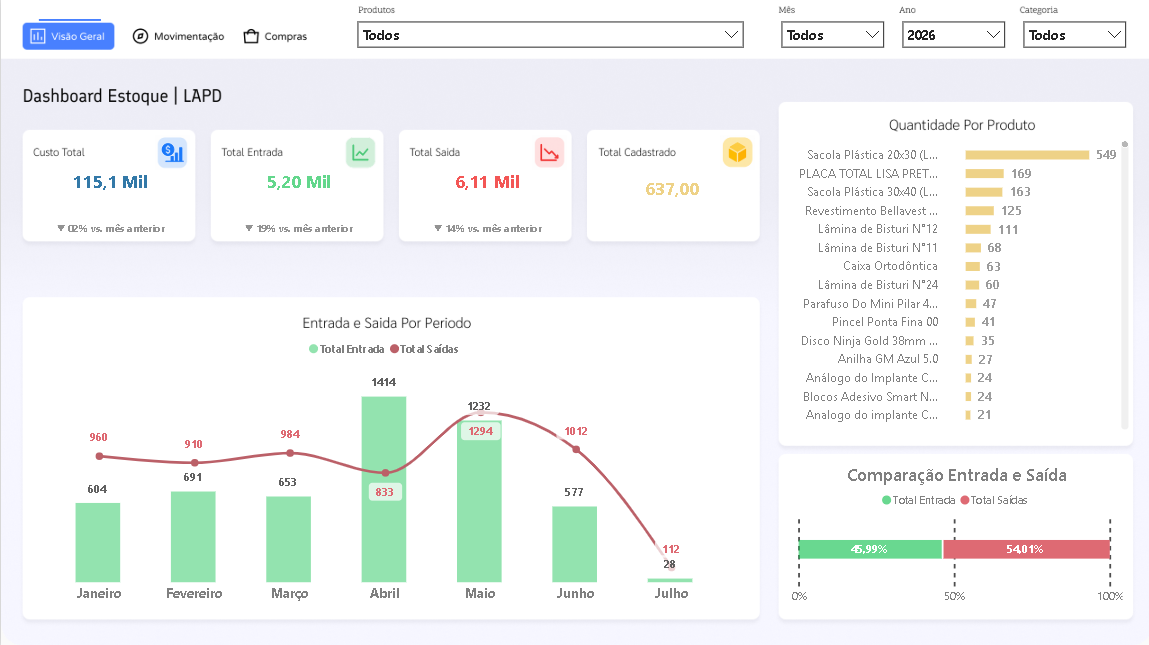

The page's visual inventory and layout, read from the dashboard file:
{"tool":"powerbi","page":{"name":"Visão Geral","canvas":[1280,720],"ordinal":0},"visuals":[{"type":"cardVisual","fields":{"Data":["Medidas.Produtos Cadastrados"]},"box":[650.8,150.6,189.6,116.8],"z":0},{"type":"cardVisual","fields":{"Data":["Medidas.Total Entrada"]},"box":[234.4,172.2,193.3,58.9],"z":1000},{"type":"cardVisual","fields":{"Data":["Medidas.Total Saídas"]},"box":[441.1,172.2,198.9,58.9],"z":2000},{"type":"slicer","fields":{"Values":["dCalendario.NomeMes"]},"box":[862.2,20,124.4,41.1],"z":3000},{"type":"lineStackedColumnComboChart","title":"Entrada e Saida Por Periodo","fields":{"Y":["Medidas.Total Entrada"],"Y2":["Medidas.Total Saídas"],"Category":["dCalendario.NomeMes"]},"box":[24.6,359.7,805.5,332],"z":4000},{"type":"cardVisual","fields":{"Data":["Medidas.Valor Custo"]},"box":[24.4,172.2,194.4,58.9],"z":5000},{"type":"clusteredBarChart","title":"Quantidade Por Produto","fields":{"Category":["fProduto.Produto"],"Y":["Sum(fProduto.Estoque atual)"]},"box":[862.7,135.2,406.6,358.9],"z":6000},{"type":"hundredPercentStackedBarChart","title":"Comparação Entrada e Saída","fields":{"Y":["Medidas.Total Entrada","Medidas.Total Saídas"]},"box":[862.7,500.9,399.8,190.6],"z":7000},{"type":"actionButton","box":[161.1,20,120,28.9],"z":8000},{"type":"slicer","fields":{"Values":["dCalendario.Ano"]},"box":[996.7,20,124.4,41.1],"z":9000},{"type":"slicer","fields":{"Values":["fProduto.Categoria"]},"box":[1131.1,20,124.4,41.1],"z":10000},{"type":"cardVisual","fields":{"Data":["Medidas.Card Comparação Saídas"]},"box":[428.9,231.1,224.4,44.4],"z":11000},{"type":"cardVisual","fields":{"Data":["Medidas.Card Mês Entrada Anterior"]},"box":[218.9,231.1,224.4,44.4],"z":12000},{"type":"cardVisual","fields":{"Data":["Medidas.Card Mês Custo Anterior"]},"box":[10,231.1,224.4,44.4],"z":13000},{"type":"slicer","fields":{"Values":["fProduto.Produto"]},"box":[391,20.4,438.7,40.9],"z":14000}]}

Visuals, with their boxes on the page's 1280x720 design canvas (x1, y1, x2, y2). These are canvas units, not pixel positions in the 1149x645 screenshot, which may show the page scaled, cropped or inside an application window:
cardVisual - Medidas.Produtos Cadastrados: 651,151,840,267
cardVisual - Medidas.Total Entrada: 234,172,428,231
cardVisual - Medidas.Total Saídas: 441,172,640,231
slicer - dCalendario.NomeMes: 862,20,987,61
"Entrada e Saida Por Periodo" lineStackedColumnComboChart: 25,360,830,692
cardVisual - Medidas.Valor Custo: 24,172,219,231
"Quantidade Por Produto" clusteredBarChart: 863,135,1269,494
"Comparação Entrada e Saída" hundredPercentStackedBarChart: 863,501,1262,692
actionButton: 161,20,281,49
slicer - dCalendario.Ano: 997,20,1121,61
slicer - fProduto.Categoria: 1131,20,1256,61
cardVisual - Medidas.Card Comparação Saídas: 429,231,653,276
cardVisual - Medidas.Card Mês Entrada Anterior: 219,231,443,276
cardVisual - Medidas.Card Mês Custo Anterior: 10,231,234,276
slicer - fProduto.Produto: 391,20,830,61
